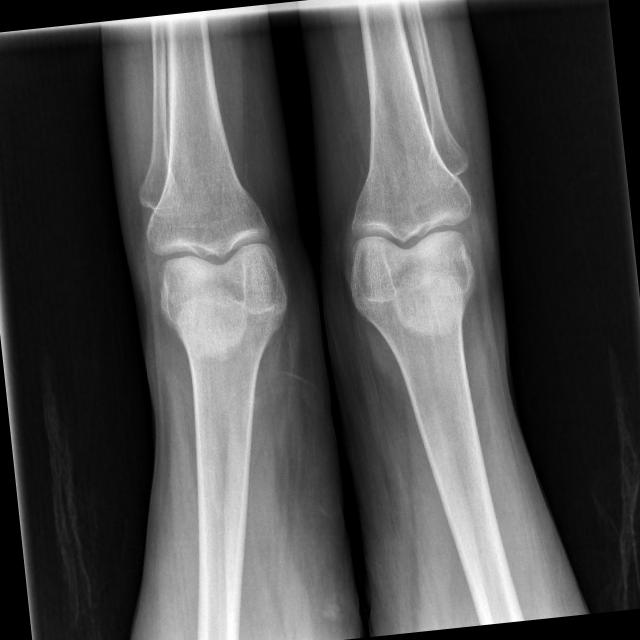Knee: (138, 180, 288, 322), (334, 174, 480, 300)
